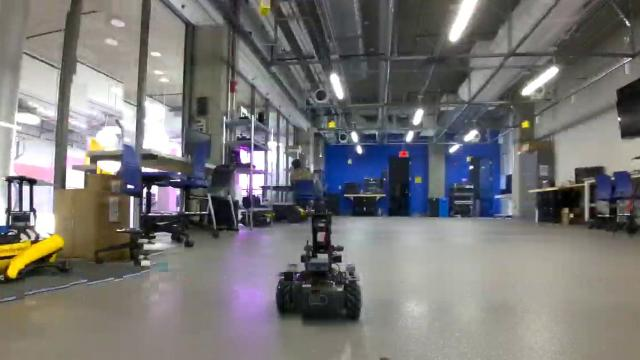robot: (274, 189, 368, 326)
